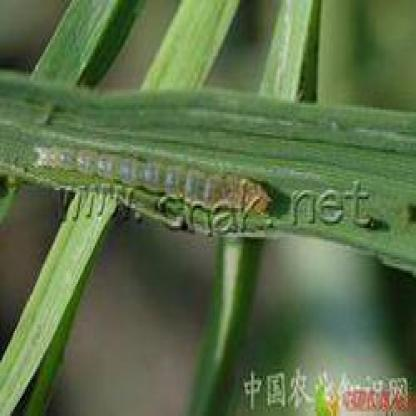leaf-folder: (23, 136, 278, 236)
